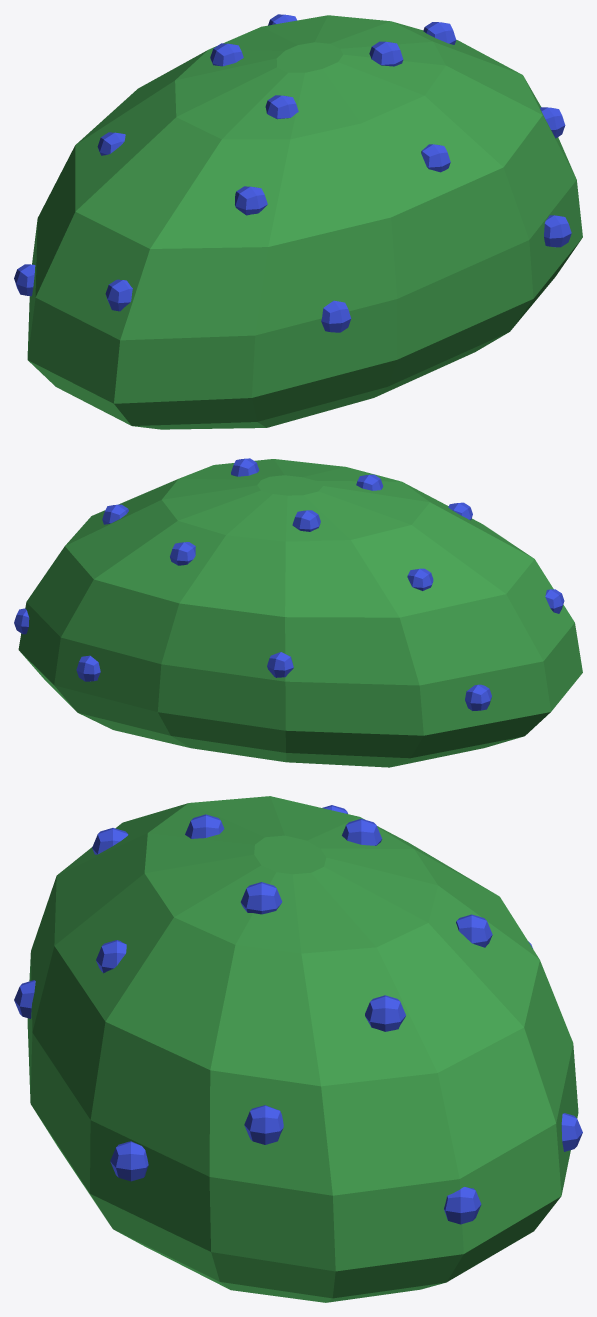
The model's file is BushBerries.fbx.
3 views of the same model, one above another, from view 1: azimuth 30°, elevation 25°; view 2: azimuth 150°, elevation 25°; view 3: azimuth 270°, elevation 25° (orthographic). The views are drawn at different scales.
Parts seen in each view (by area): view 1: Bush, Cube.002, Cube.004, Cube.010, Cube.014, Cube.008, Cube.015, Cube.009, Cube.013, Cube.007; view 2: Bush, Cube.007, Cube.005, Cube.006, Cube, Cube.013, Cube.003, Cube.014; view 3: Bush, Cube.011, Cube.010, Cube.001, Cube.012, Cube.014, Cube, Cube.013, Cube.015, Cube.009.
Part boxes in pixels (x1=…): Bush: x1=27, y1=15, x2=582, y2=429; Cube.002: x1=321, y1=300, x2=351, y2=332; Cube.004: x1=235, y1=186, x2=267, y2=215; Cube.010: x1=544, y1=215, x2=571, y2=247; Cube.014: x1=369, y1=41, x2=403, y2=66; Cube.008: x1=105, y1=279, x2=132, y2=311; Cube.015: x1=265, y1=95, x2=298, y2=119; Cube.009: x1=421, y1=144, x2=450, y2=172; Cube.013: x1=210, y1=43, x2=243, y2=66; Cube.007: x1=14, y1=264, x2=35, y2=296; Bush: x1=18, y1=459, x2=582, y2=767; Cube.007: x1=465, y1=684, x2=491, y2=710; Cube.005: x1=267, y1=652, x2=293, y2=677; Cube.006: x1=76, y1=655, x2=100, y2=681; Cube: x1=170, y1=542, x2=195, y2=565; Cube.013: x1=292, y1=510, x2=320, y2=531; Cube.003: x1=407, y1=568, x2=433, y2=590; Cube.014: x1=231, y1=458, x2=259, y2=476; Bush: x1=27, y1=796, x2=578, y2=1302; Cube.011: x1=244, y1=1105, x2=283, y2=1144; Cube.010: x1=110, y1=1141, x2=148, y2=1181; Cube.001: x1=365, y1=995, x2=405, y2=1031; Cube.012: x1=444, y1=1187, x2=481, y2=1224; Cube.014: x1=240, y1=882, x2=282, y2=914; Cube: x1=456, y1=914, x2=492, y2=947; Cube.013: x1=342, y1=818, x2=381, y2=845; Cube.015: x1=185, y1=814, x2=224, y2=838; Cube.009: x1=96, y1=940, x2=126, y2=973.
Size of the model in its own units: 693 by 332 by 498.
